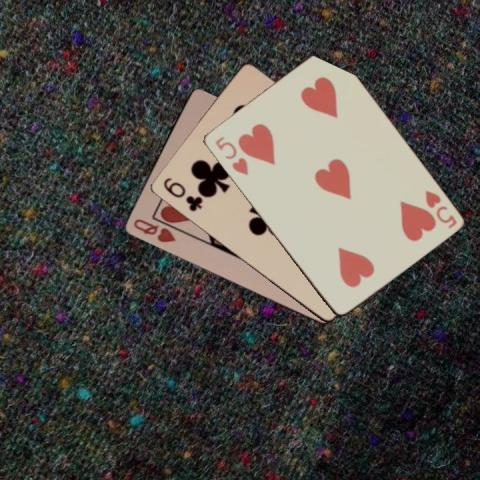5h: (212, 132, 250, 176), (421, 187, 458, 230)
6c: (160, 174, 204, 213)
Qh: (130, 215, 177, 244)
